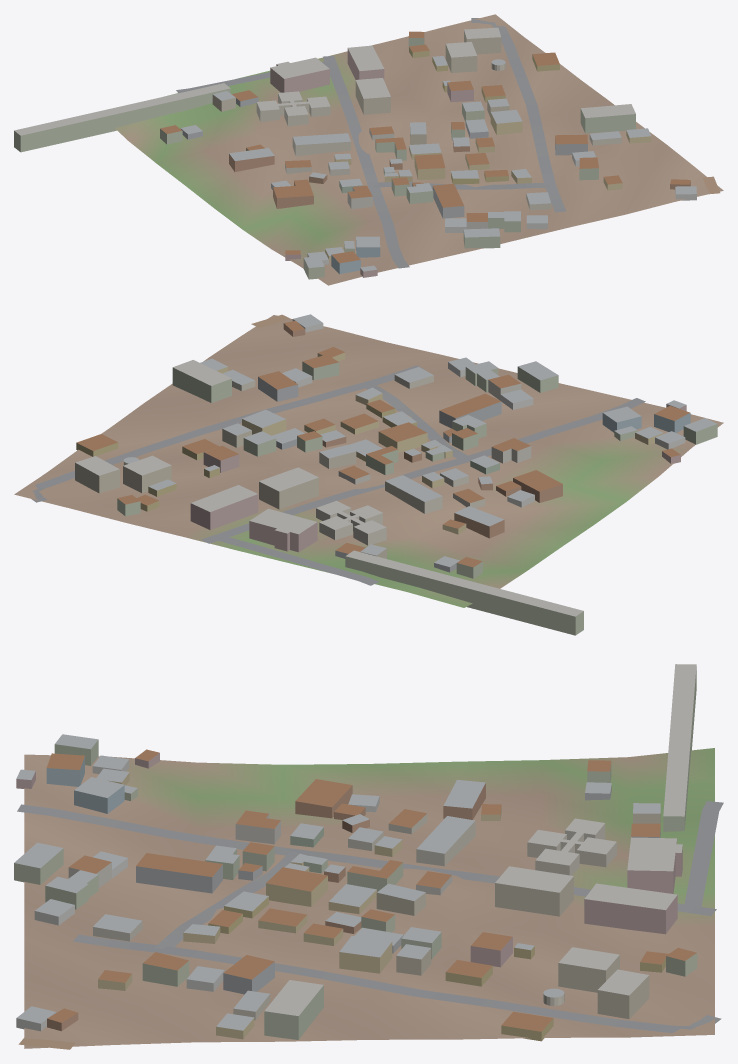
3 views of the same model, one above another, from view 1: azimuth 30°, elevation 25°; view 2: azimuth 150°, elevation 25°; view 3: azimuth 270°, elevation 25° (orthographic). The views are drawn at different scales.
Visible parts, largest first — view 1: Lo; view 2: Lo; view 3: Lo.
Part boxes in pixels (left/top/right/bottom): Lo: left=14, top=14, right=723, bottom=285; Lo: left=14, top=314, right=723, bottom=635; Lo: left=14, top=664, right=723, bottom=1049.
Size of the model in its own units: 319 by 17.92 by 263.
